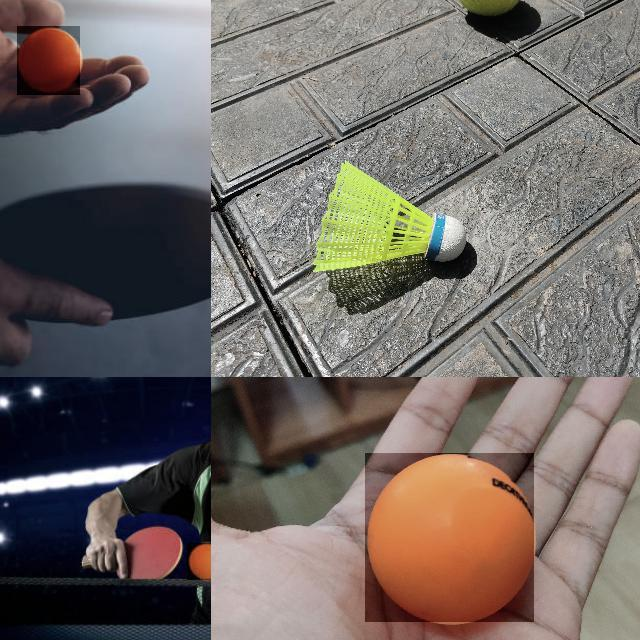ping-pong-ball: (365, 453, 535, 623), (17, 26, 81, 96), (187, 543, 210, 582)
